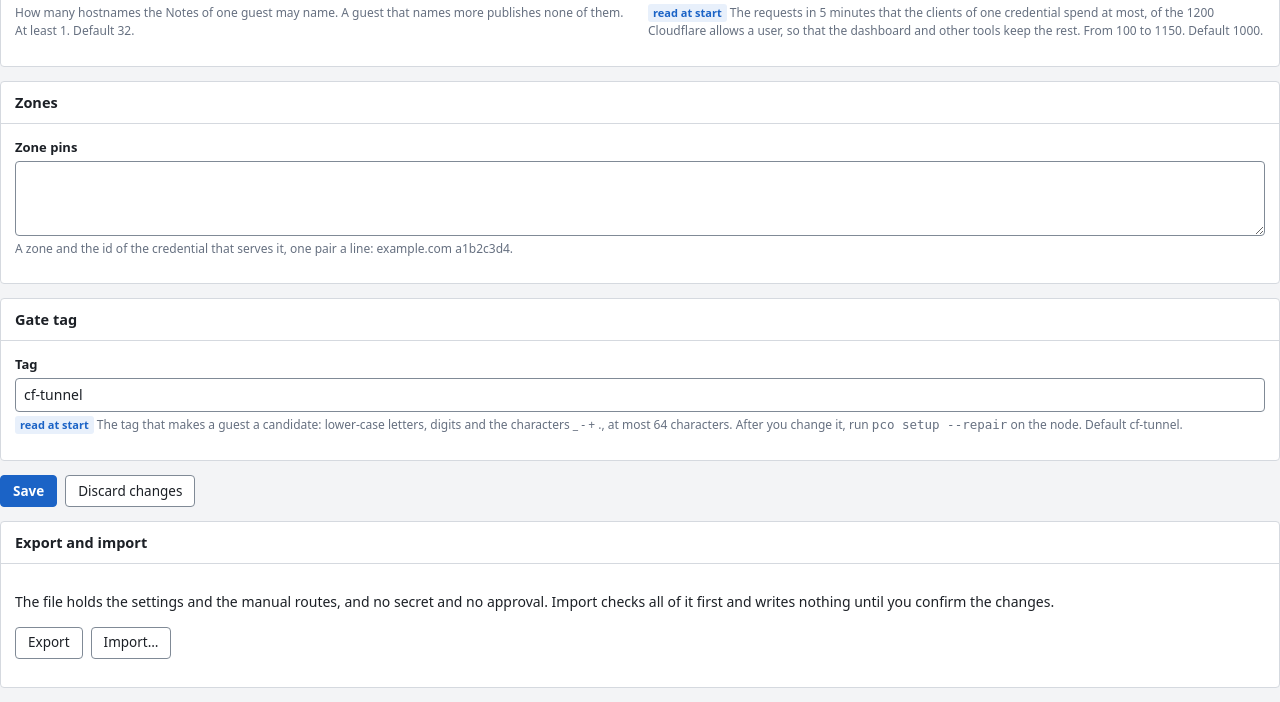
a link from a route that waits for allowHosts › a wildcard grants the names that have no record of their own
(page scrolled)
Click the button "Save": (29, 491) [0,475,57,507]
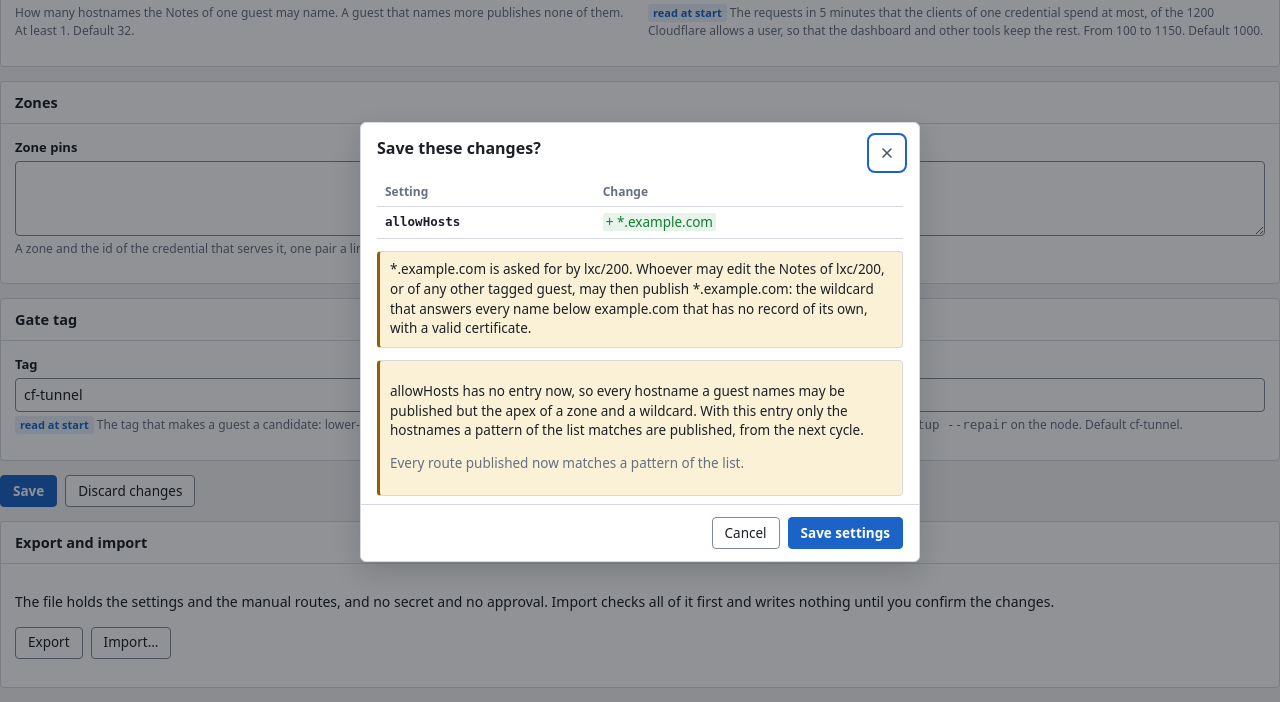
Expected: the text "is asked for by lxc/200" shows "the wildcard that answers every name below example.com that has no record of its own, with a valid certificate", [390,260,885,337]
